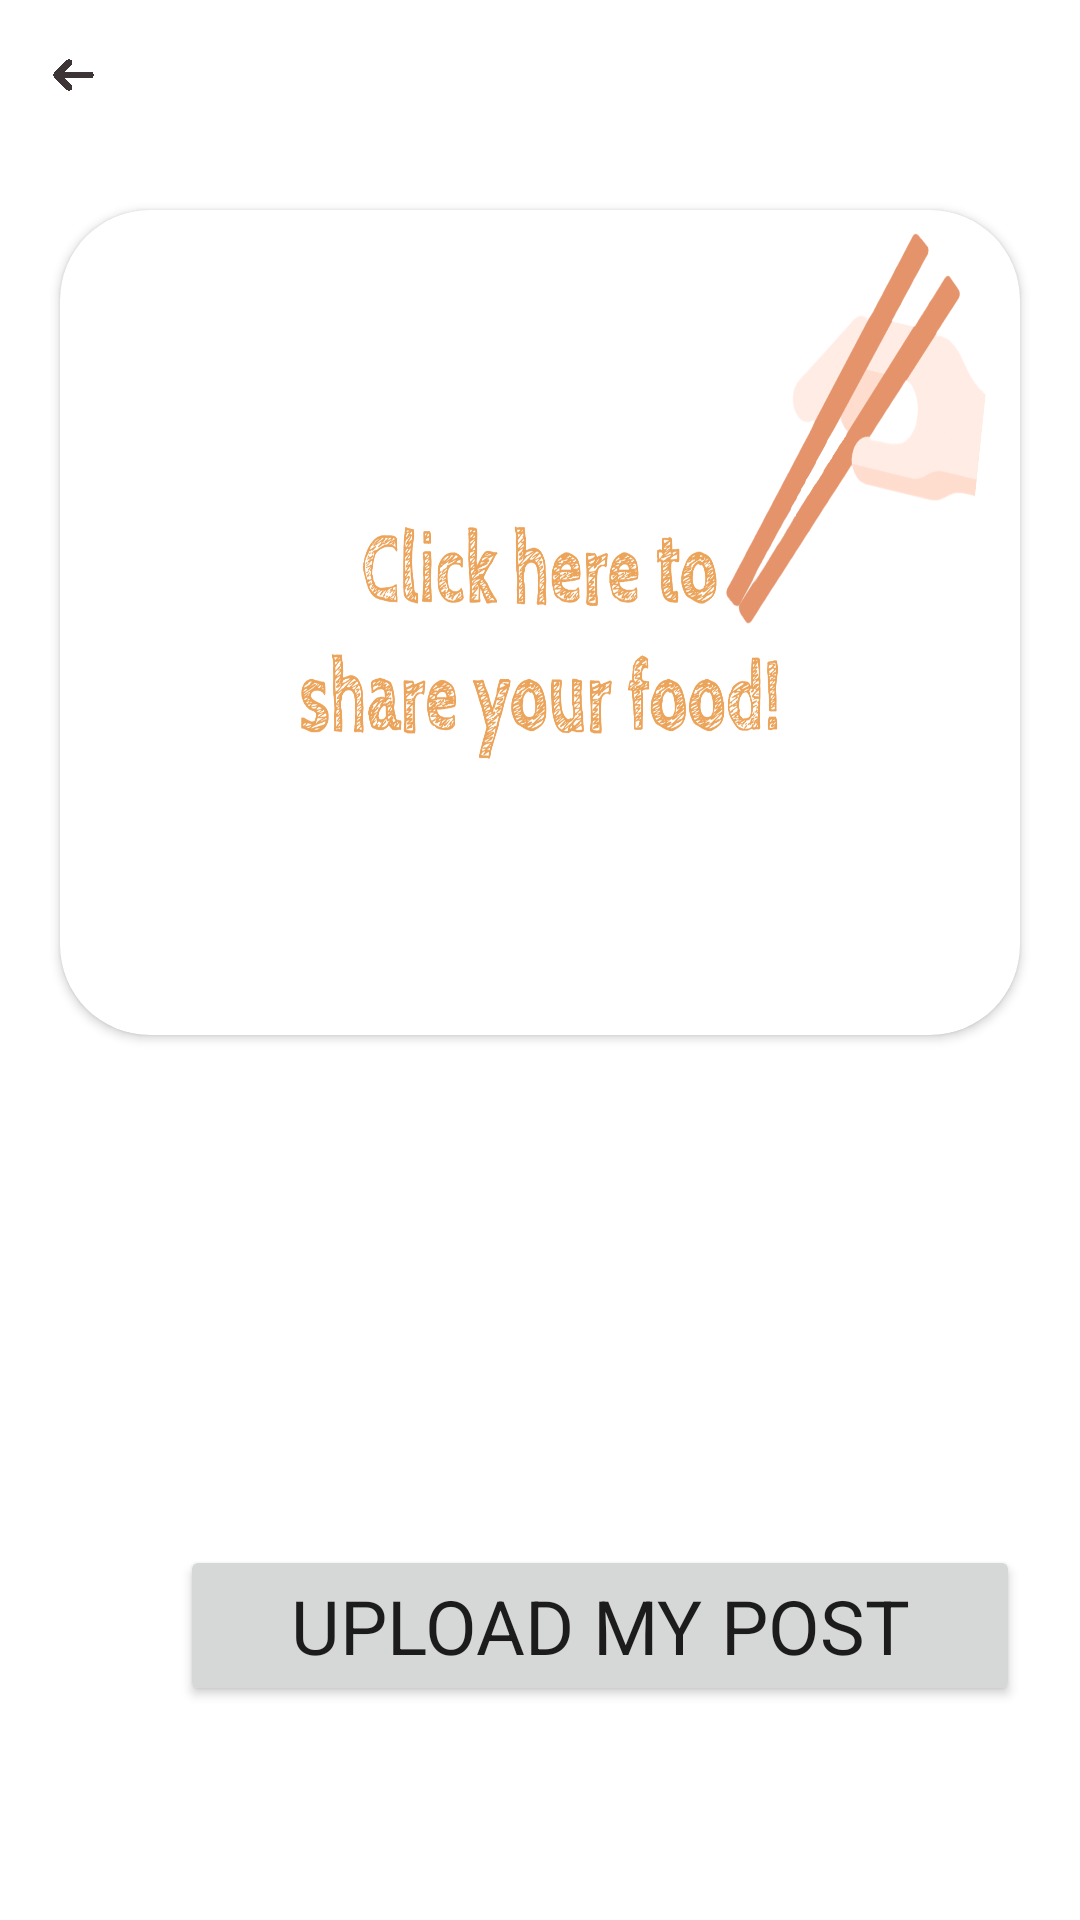

Icons on this 1080px×1920px Android screen, each with its box as (x1, y1, x2, y2):
back arrow: (53, 59, 94, 91)
